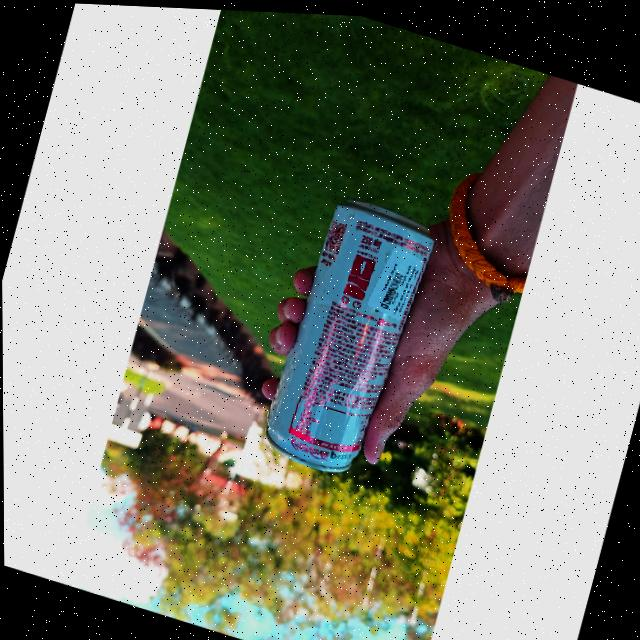Coca Cola Plus: (253, 187, 451, 485)
